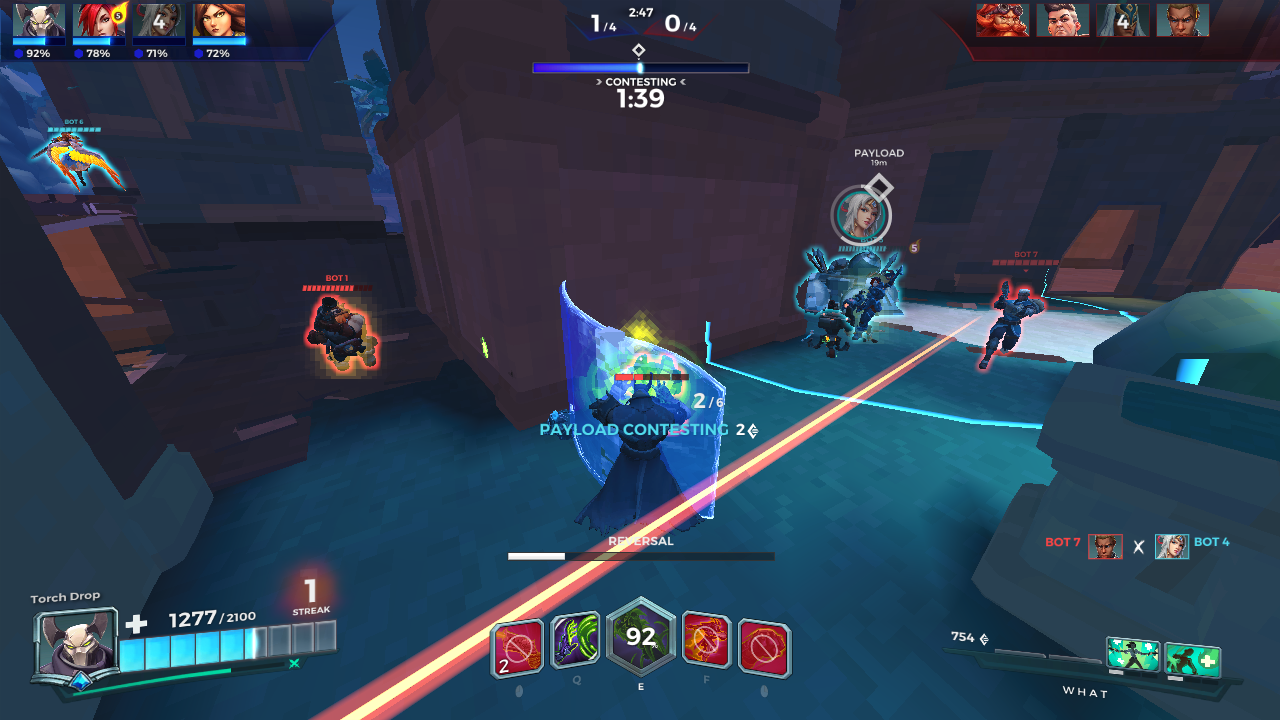model: (306, 297, 385, 381), (990, 269, 1040, 385)
